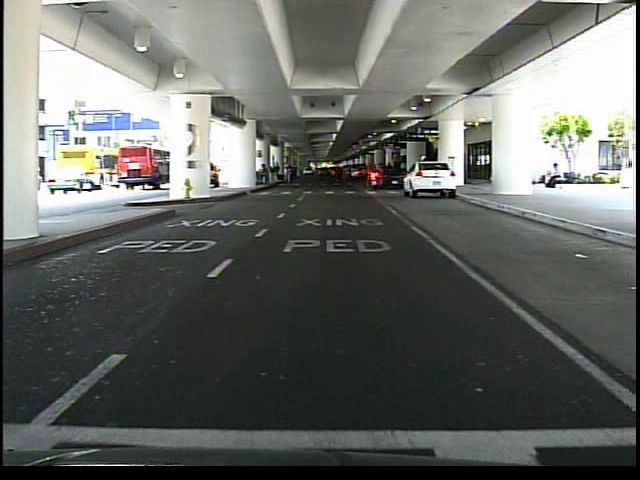person: (538, 156, 566, 193), (416, 153, 435, 198)
